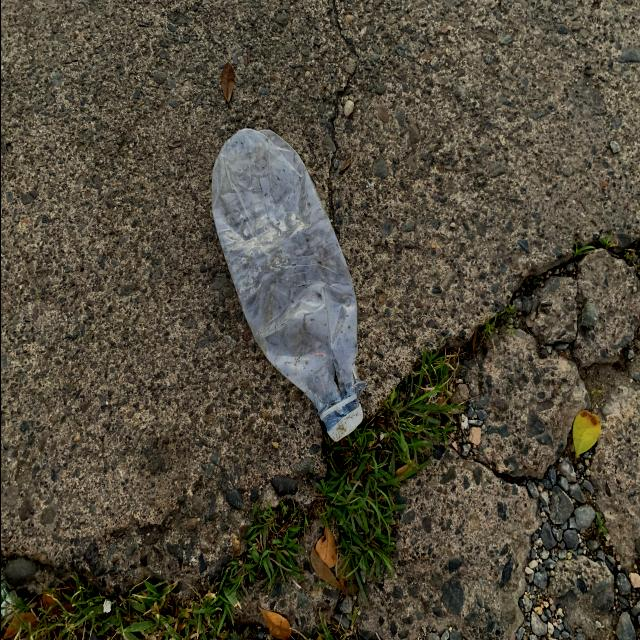Clear plastic bottle: (210, 127, 366, 441)
Plastic bottle cap: (327, 405, 362, 441)
